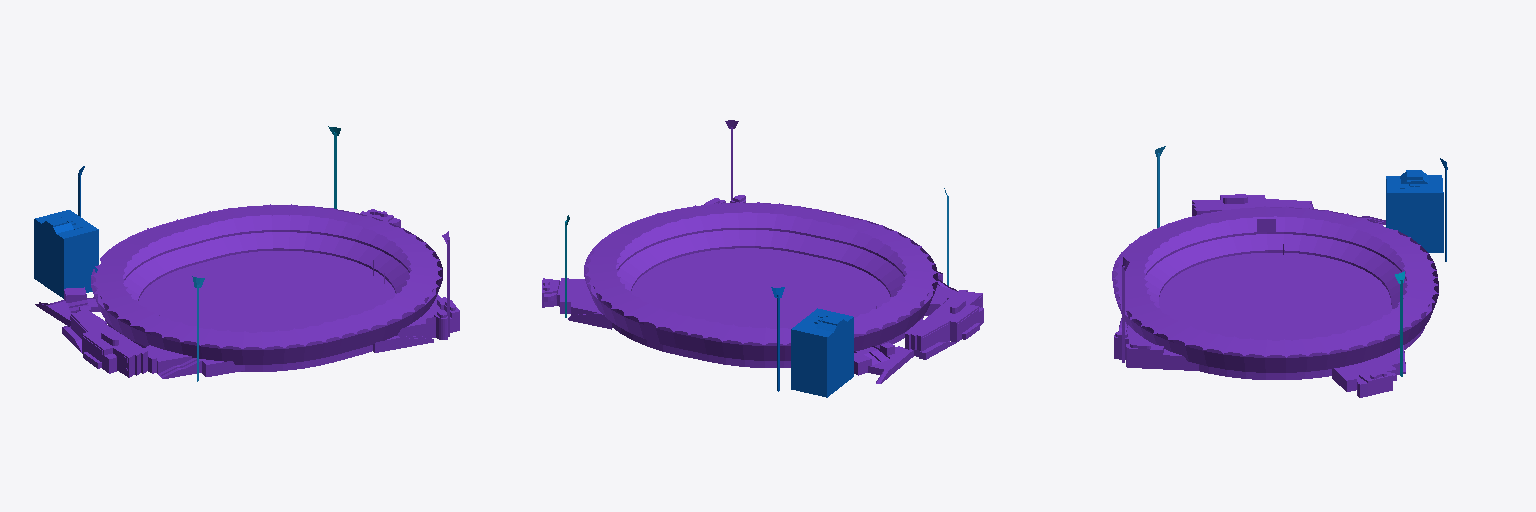
Rendered from Coliseo_con_color.obj.
The picture shows the model from 3 angles: view 1: azimuth 30°, elevation 25°; view 2: azimuth 150°, elevation 25°; view 3: azimuth 270°, elevation 25°; orthographic projection.
Visible parts, largest first — view 1: 3d-model; view 2: 3d-model; view 3: 3d-model.
Part boxes in pixels (left/top/right/bottom): 3d-model: left=34, top=126, right=459, bottom=381; 3d-model: left=542, top=120, right=983, bottom=397; 3d-model: left=1112, top=146, right=1447, bottom=397.
Bounding box in the file's own units: 13.52 × 3.6 × 10.6.